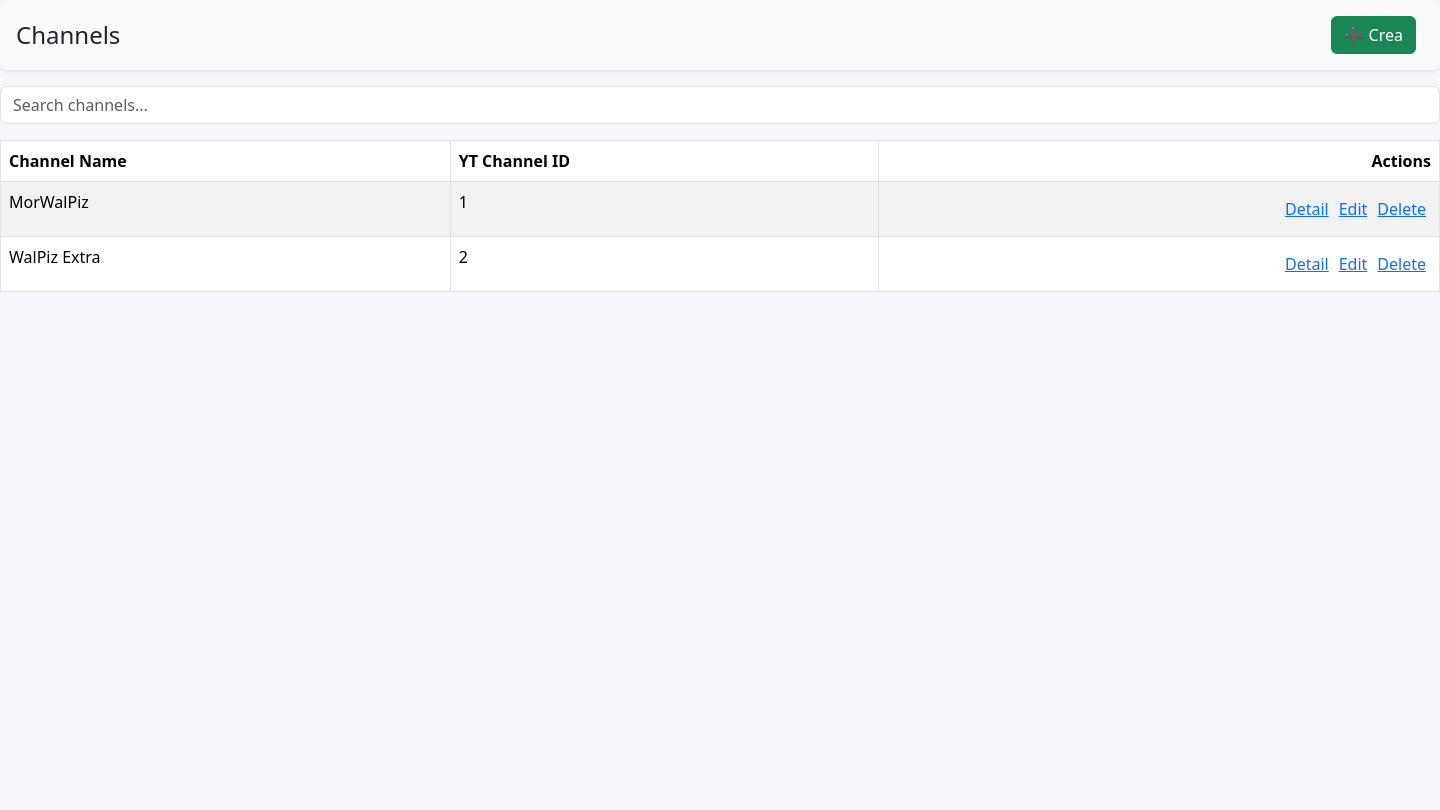
Channels Index › opens the delete confirmation modal when Delete is clicked
The image size is (1440, 810).
Click the button "Delete" in the row of "MorWalPiz" at (1402, 209), box [1372,190,1431,228]
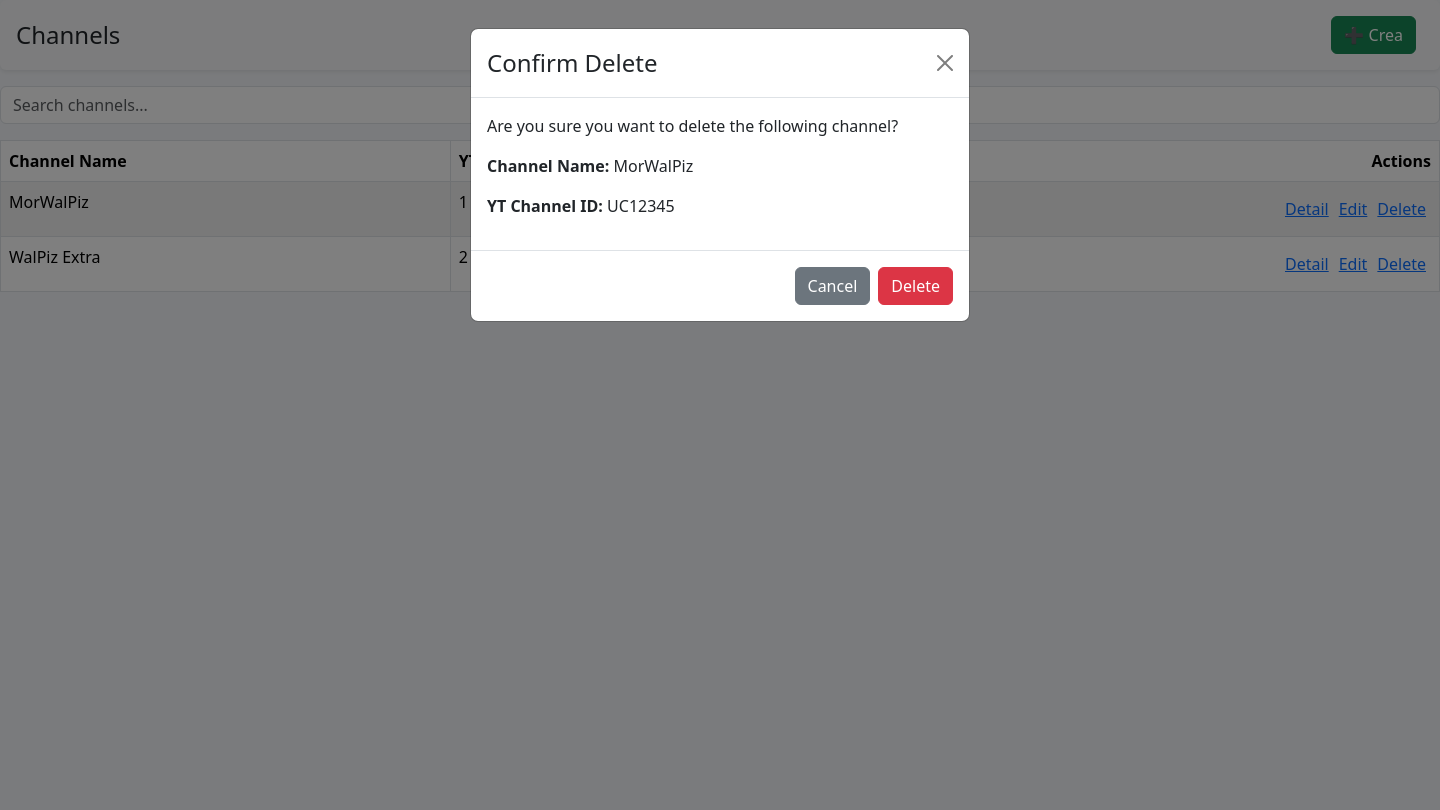
Now the text "Confirm Delete" is shown, box [487,45,658,81]
